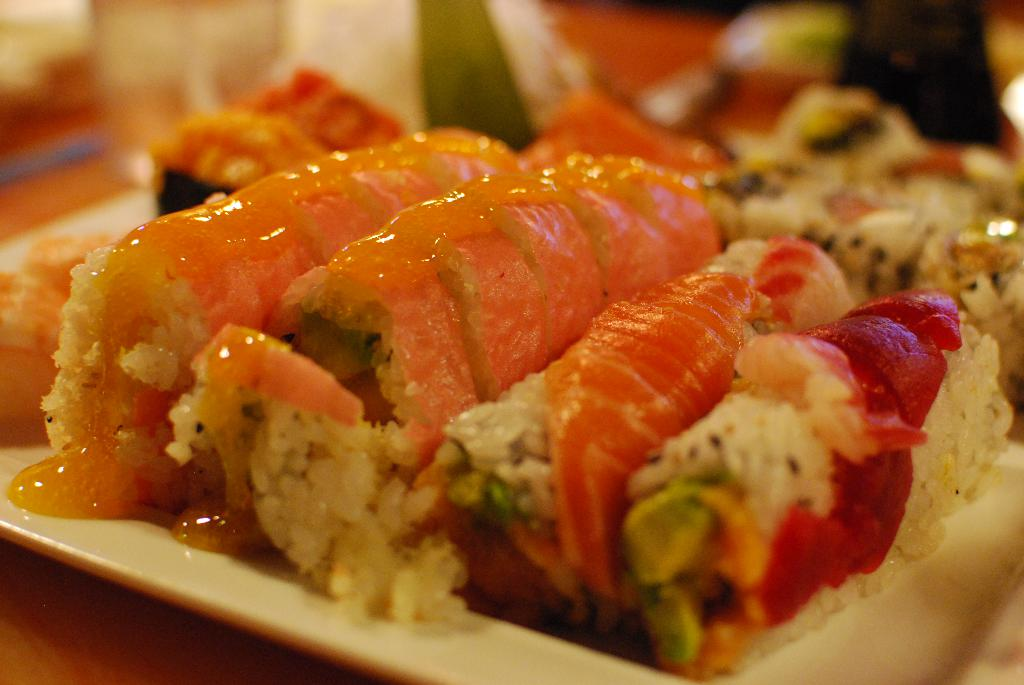sushi: (0, 135, 988, 685)
